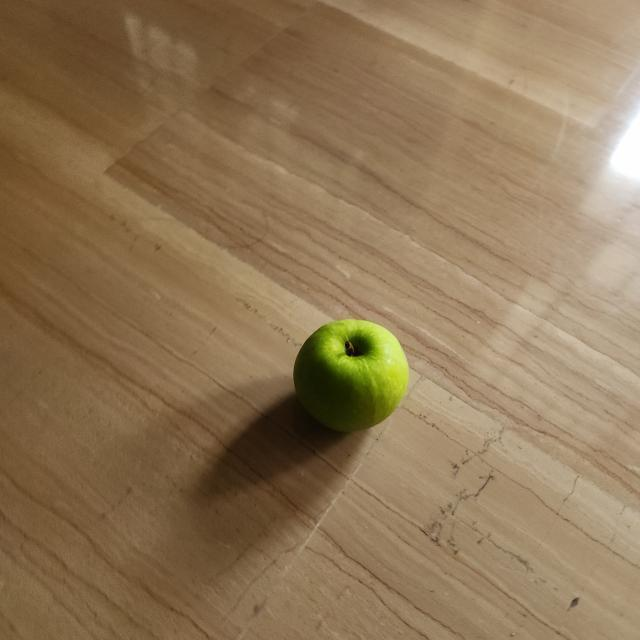apple: (278, 312, 416, 445)
